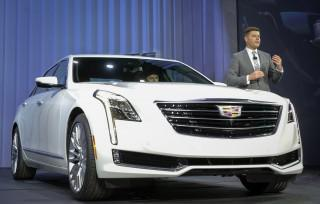cadillac: (214, 103, 247, 119)
